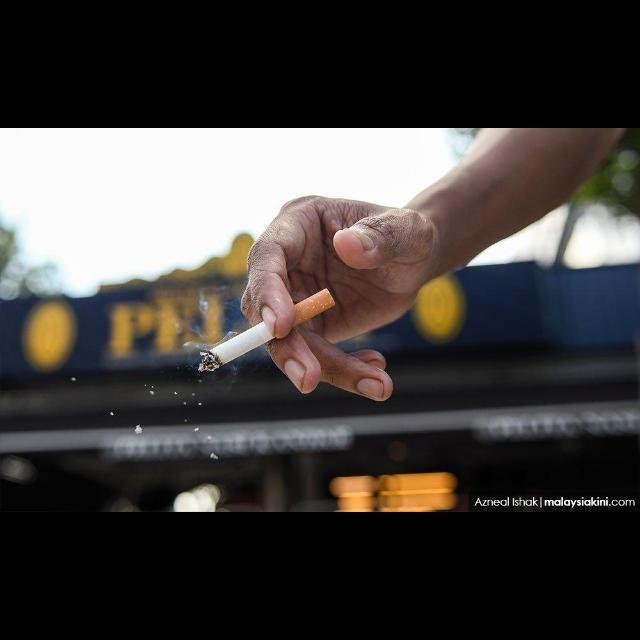rokok: (195, 287, 337, 375)
